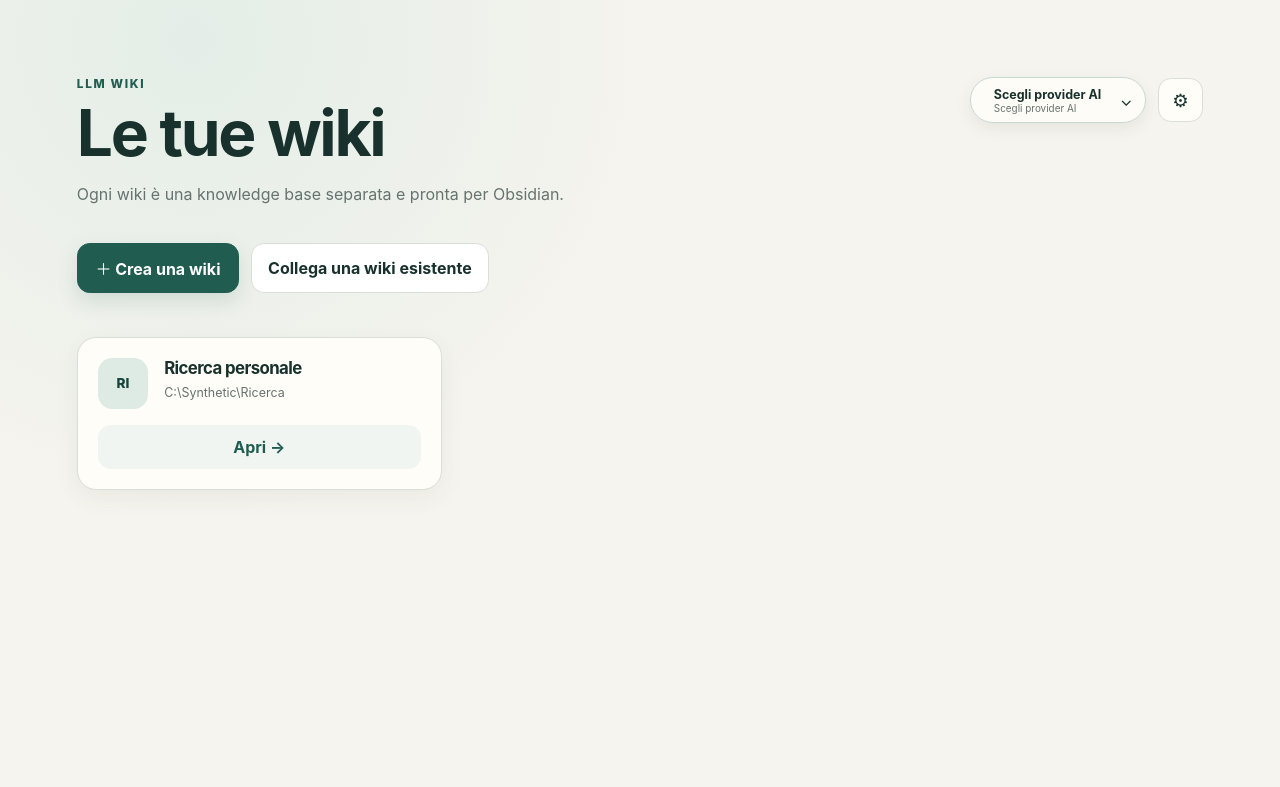
Test: App › selects supported documents and starts a visible import
Click the button "Apri →": (259, 447) [98, 425, 421, 469]
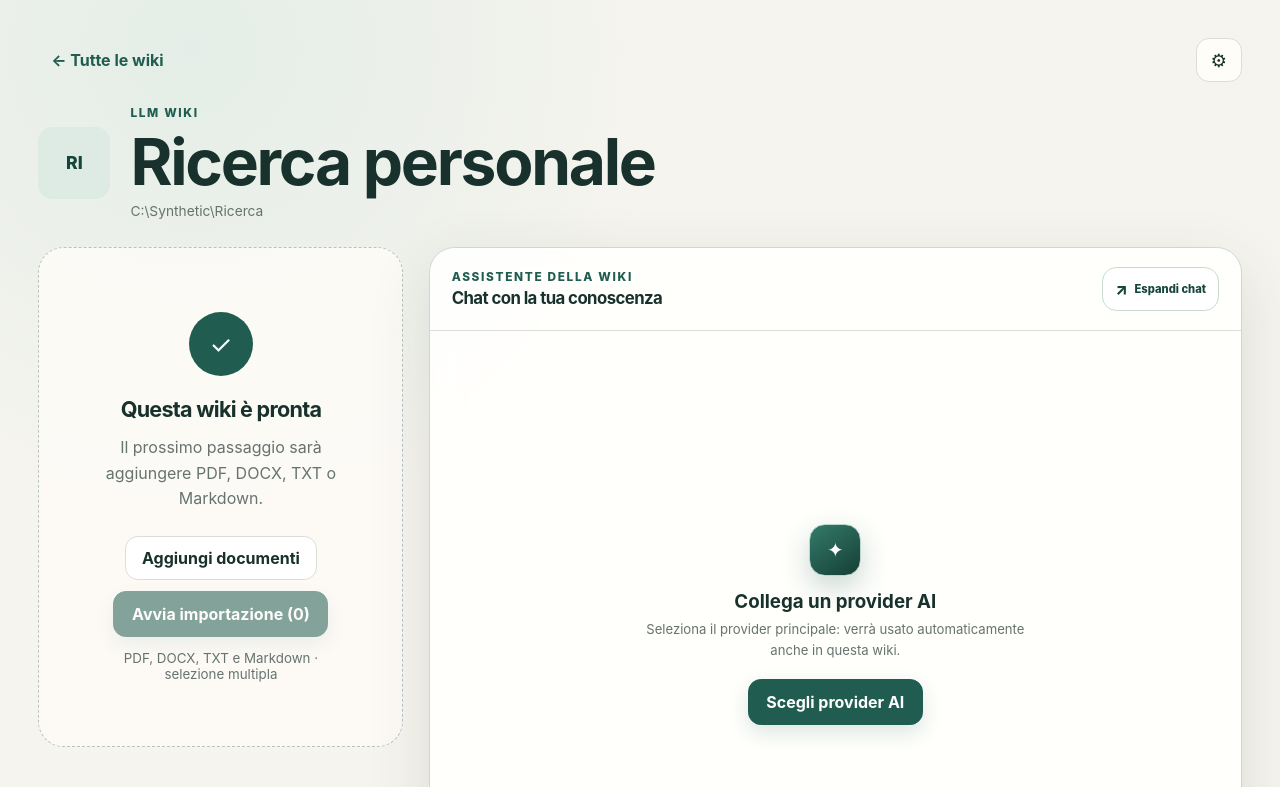
Click the button "Aggiungi documenti": (221, 558) [125, 536, 317, 580]
(page scrolled)
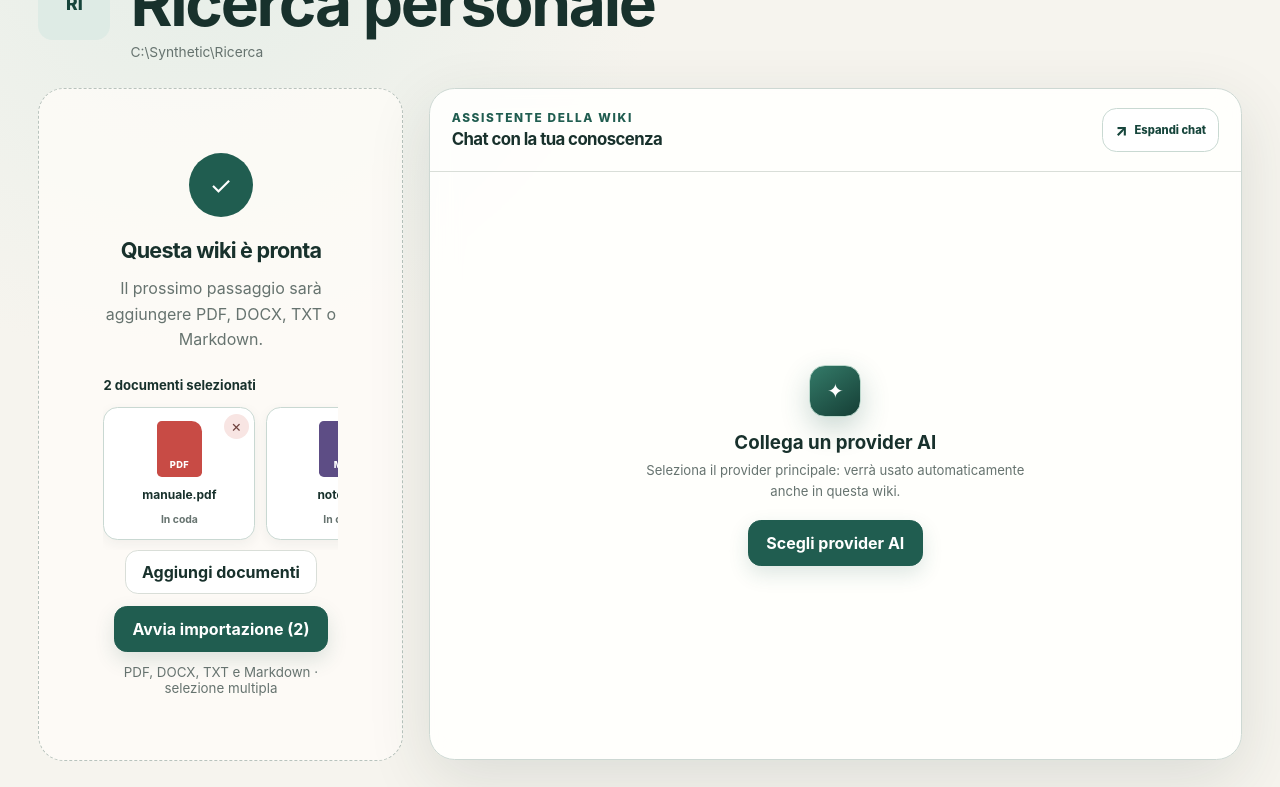
Expected: the text "2 documenti selezionati" is shown, [103, 377, 256, 393]
Expected: the text "manuale.pdf" is shown, [142, 487, 216, 502]
Expected: the icon "PDF" is shown, [157, 421, 202, 477]
Click the button "Avvia importazione (2)": (221, 628) [114, 606, 328, 652]
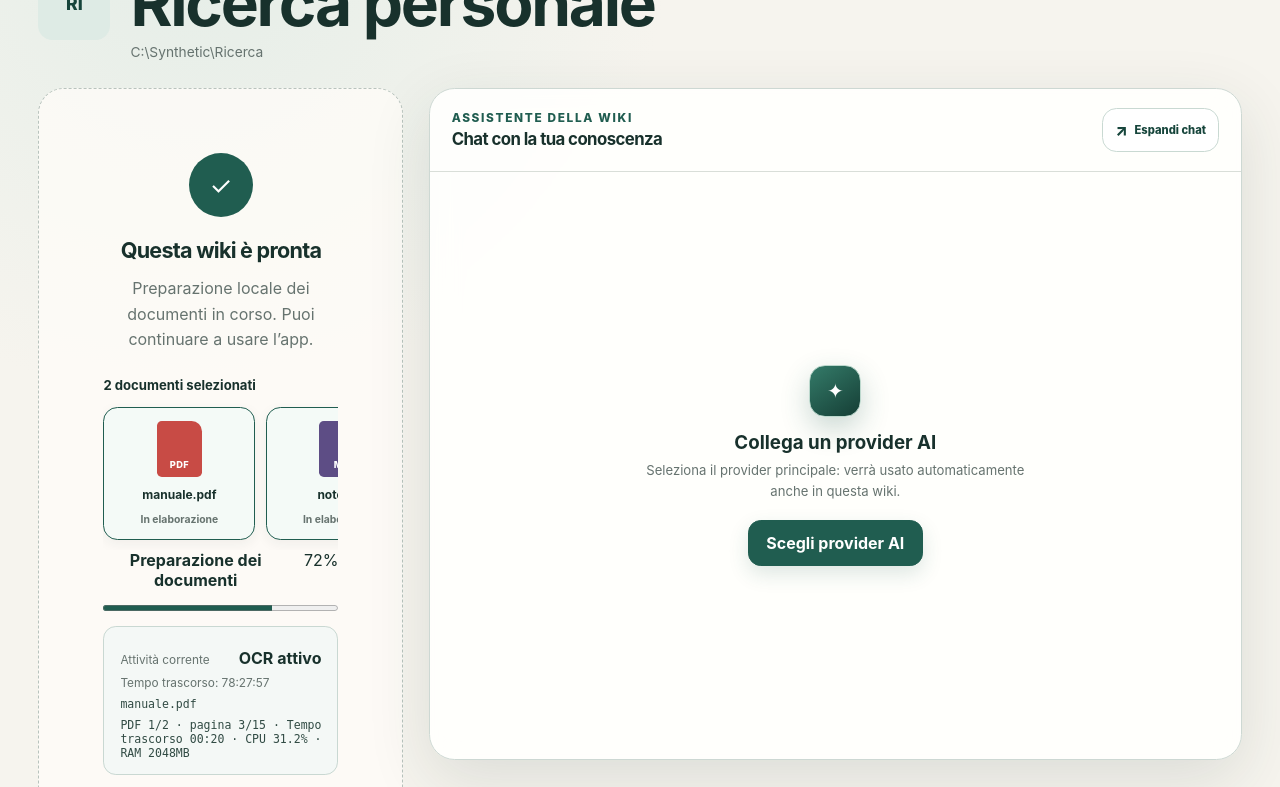
Expected: the progress indicator holds "0.72", [103, 602, 338, 614]
Expected: the text "OCR attivo" is shown, [239, 648, 322, 668]
Expected: the text "pagina 3/15" is shown, [120, 718, 322, 760]
